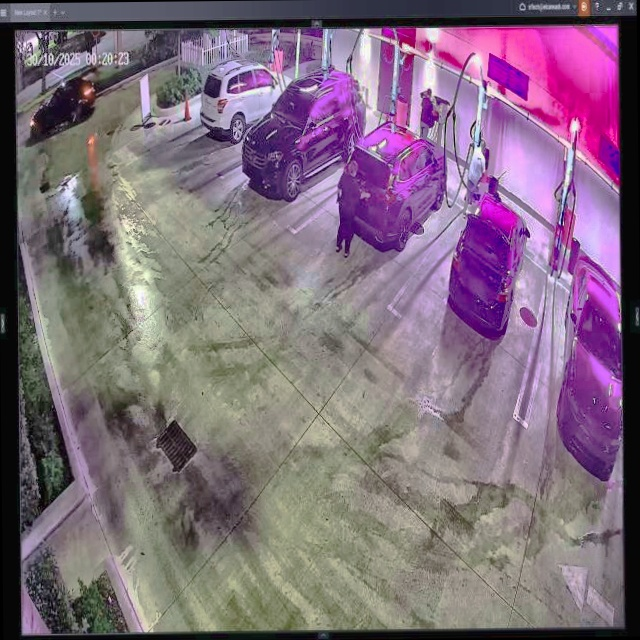Car: (242, 72, 366, 200), (341, 121, 448, 253), (447, 189, 530, 335)
